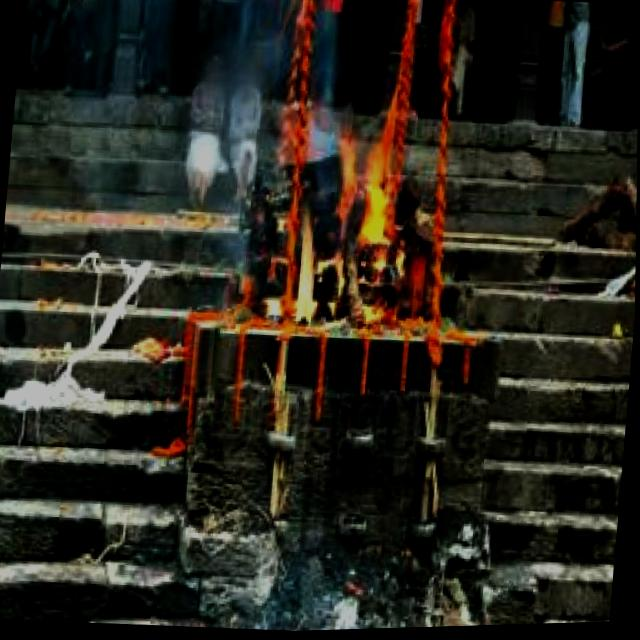Fire: (276, 111, 410, 328)
